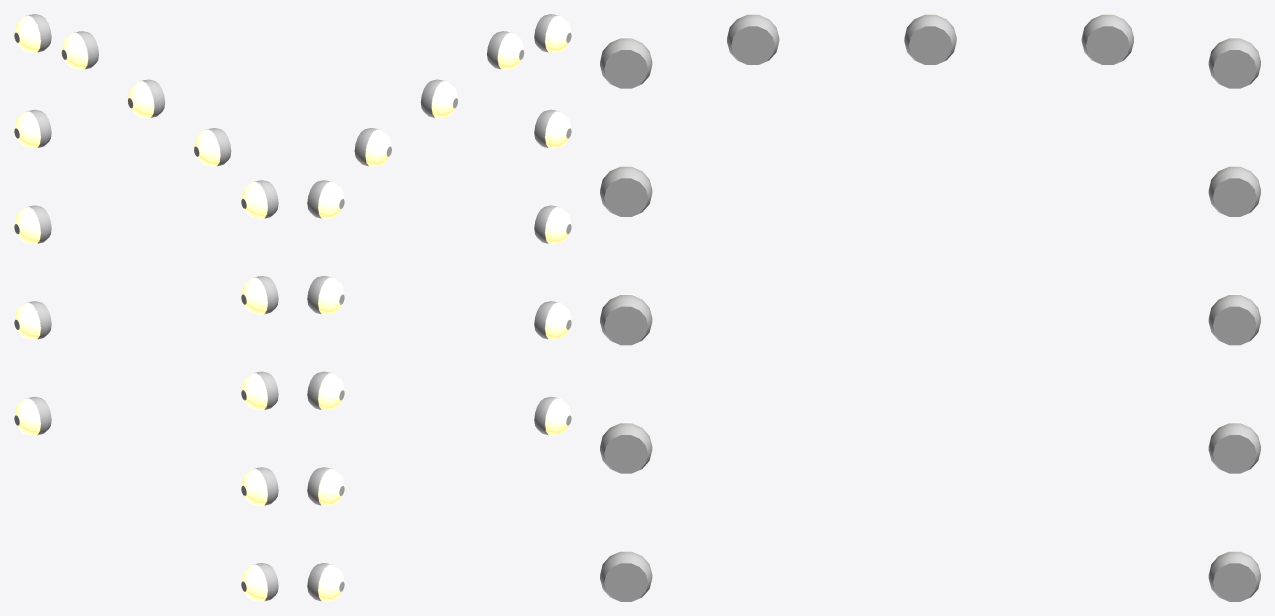
File: SM_CP_DressingMirrorBulbs.fbx
3 renders of one model, left to right at view 1: azimuth 30°, elevation 25°; view 2: azimuth 150°, elevation 25°; view 3: azimuth 270°, elevation 25°, orthographic. The views are drawn at different scales.
Visible parts, largest first — view 1: SM_CP_DressingMirrorBulbs; view 2: SM_CP_DressingMirrorBulbs; view 3: SM_CP_DressingMirrorBulbs.
Boxes of the visible parts, box(x1,y1,x2,y2) form: SM_CP_DressingMirrorBulbs: box(14, 14, 278, 601); SM_CP_DressingMirrorBulbs: box(307, 14, 571, 601); SM_CP_DressingMirrorBulbs: box(600, 14, 1260, 601).
Bounding box in the file's own units: 11.8 × 190 × 185.
